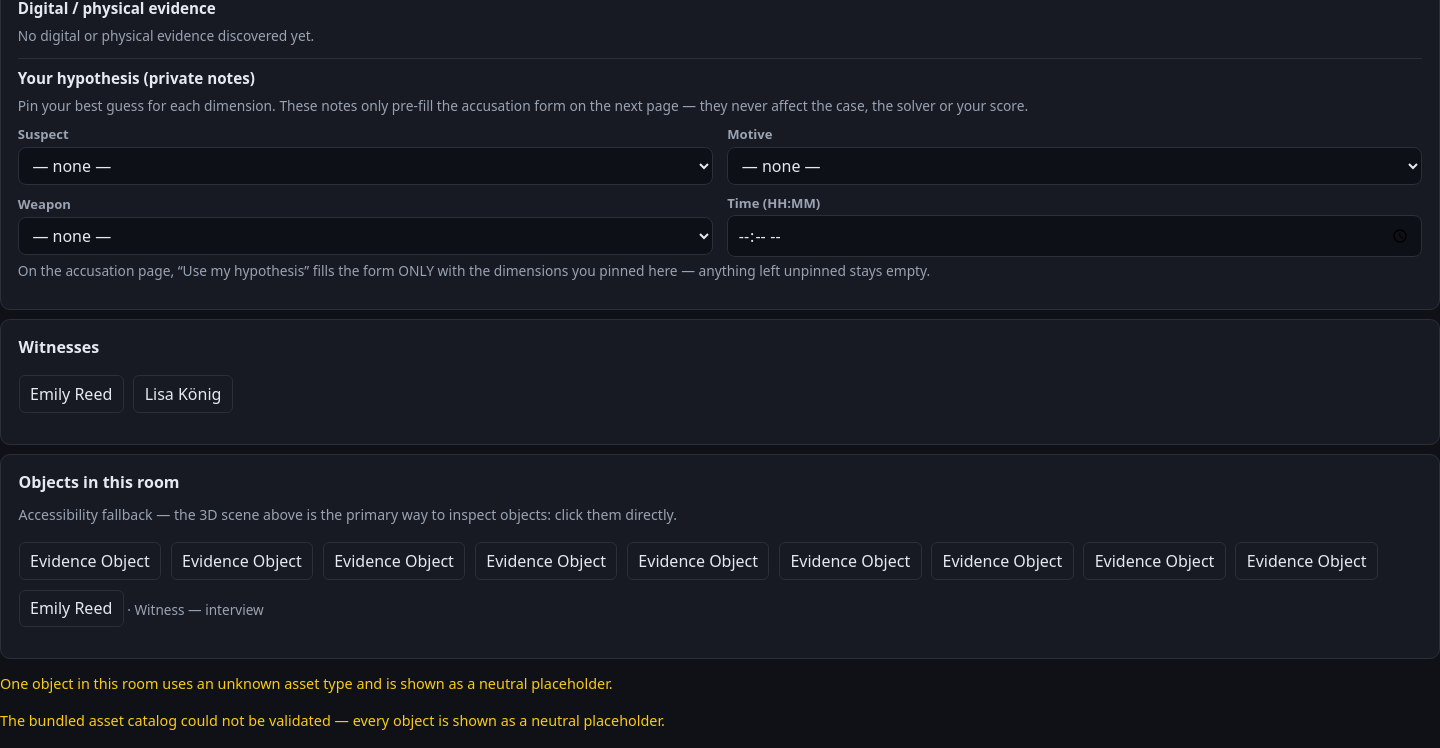
Test: Phase 23 — interview question flow on /scene › refreshes answered state and notebook after a neutral answer when the scene was already interacted with
The image size is (1440, 748).
(page scrolled)
Click the button with test id "object-apartment_lamp" at (242, 561), box [171,542,313,580]
(page scrolled)
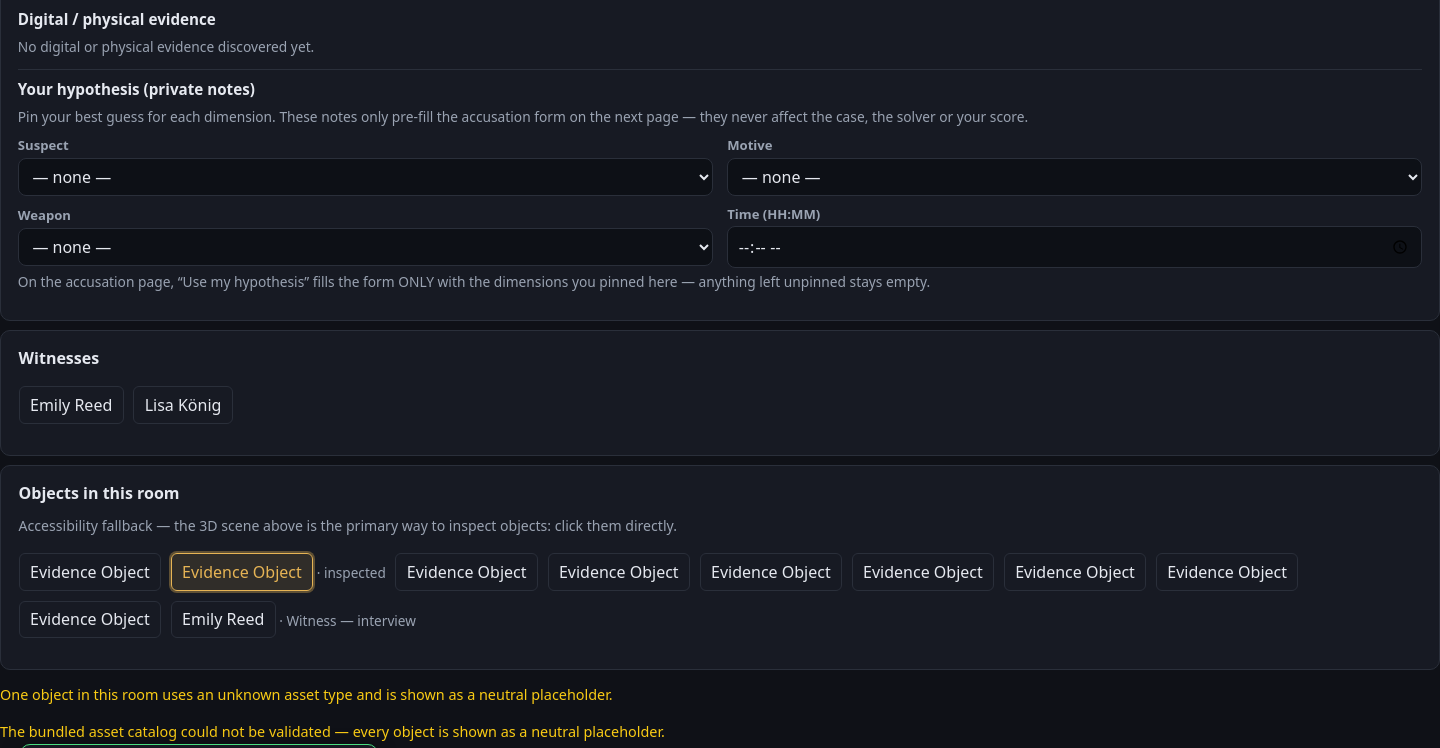
Result: the text "· inspected" is shown at [313,562,386,582]
Click the button "Emily Reed" below "Witnesses" at (71, 405), box [19,386,124,424]
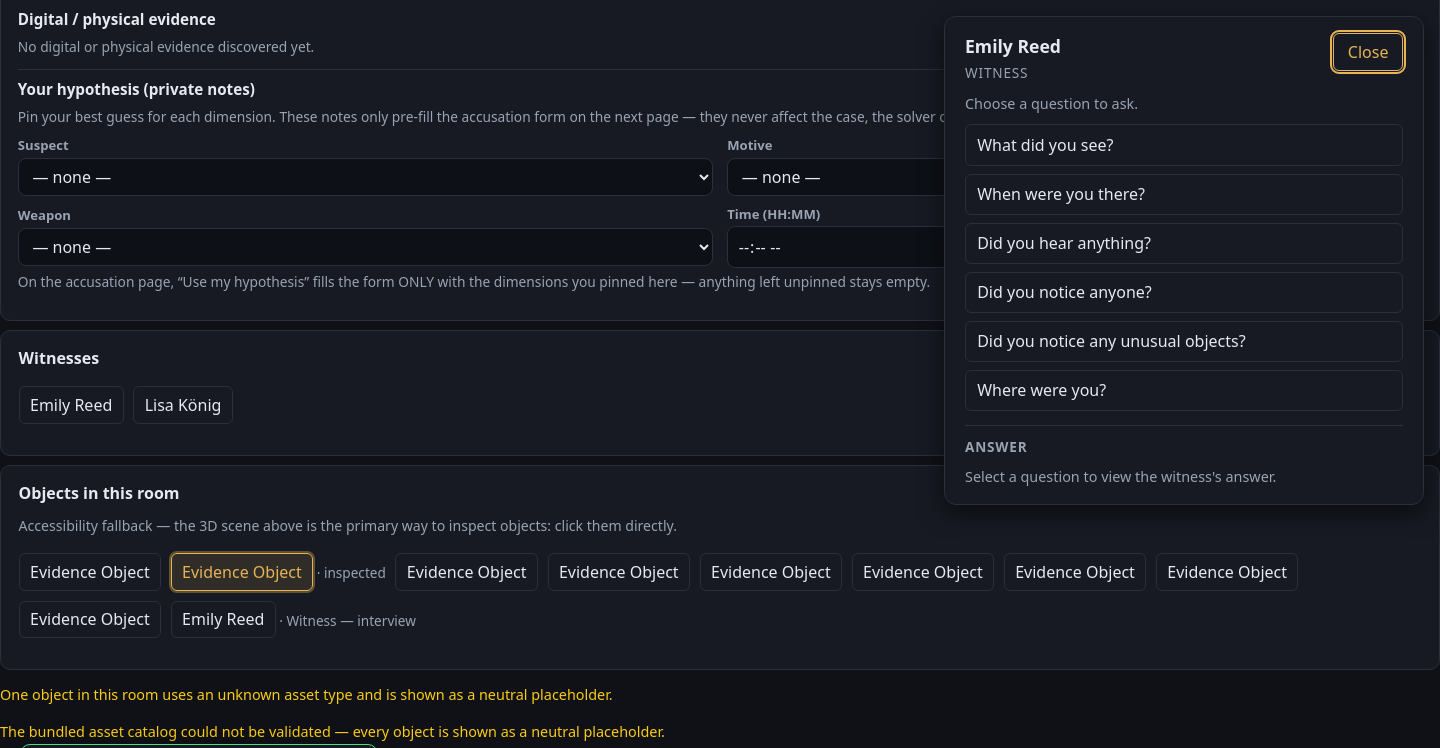
Click the button with test id "witness-question-OBSERVATION" at (1045, 145), box [965,124,1403,166]
(page scrolled)
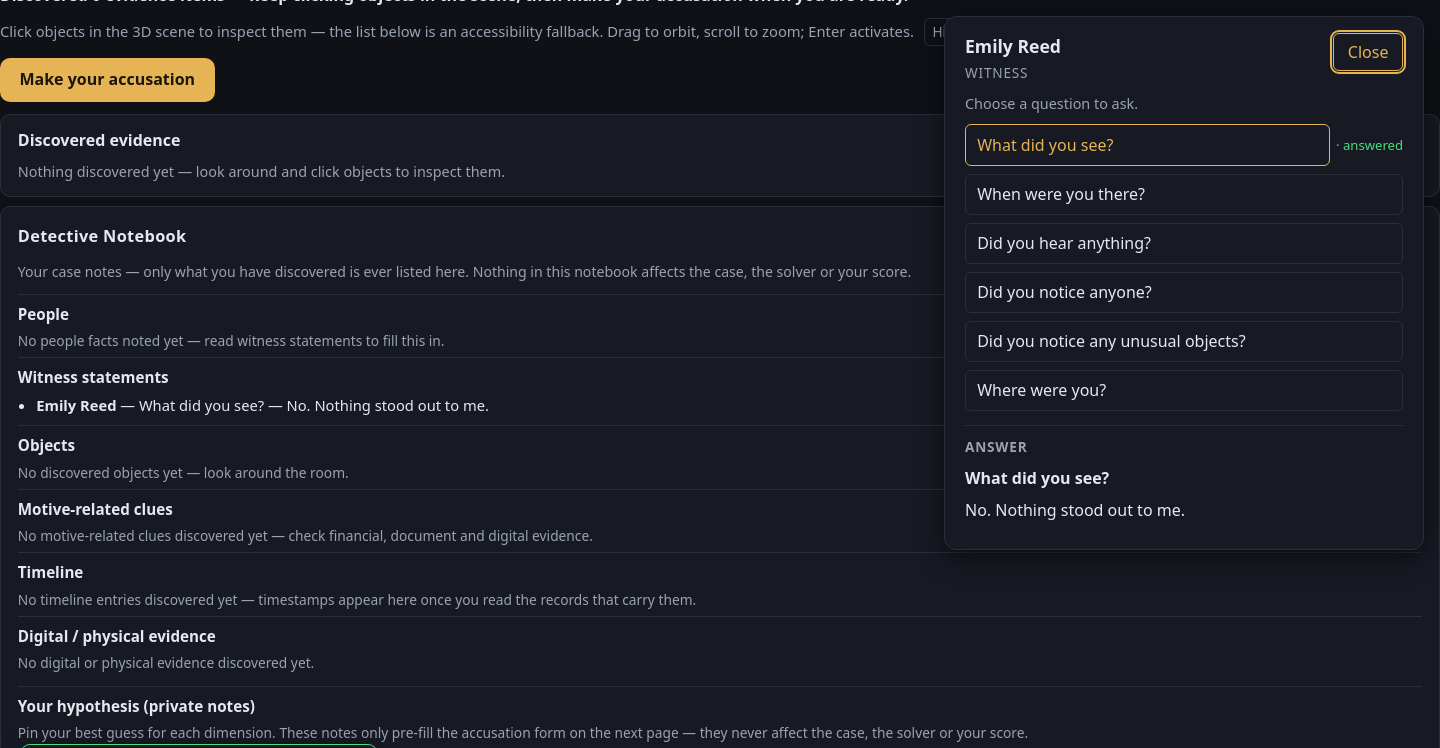
Result: the text with test id "witness-statement-summary" reads "No. Nothing stood out to me." at [965,499,1185,521]
Result: the text "· answered" is shown at [1336,135,1403,155]
Result: the list item that starts with "Emily Reed" shows "What did you see?" at [139,395,489,415]
